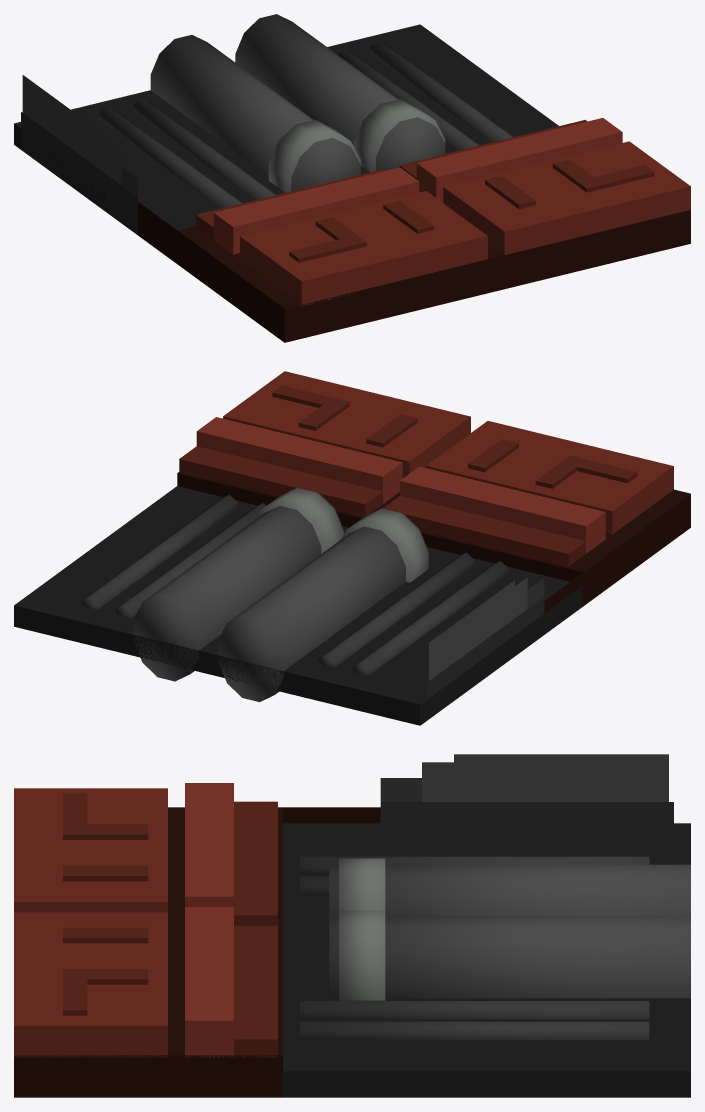
The model's file is newshf-234.glb.
The picture shows the model from 3 angles, top to bottom: view 1: azimuth 30°, elevation 25°; view 2: azimuth 150°, elevation 25°; view 3: azimuth 270°, elevation 25°; orthographic projection. The views are drawn at different scales.
Visible parts, largest first — view 1: newshf-234; view 2: newshf-234; view 3: newshf-234.
Boxes of the visible parts, <box> form: newshf-234: <box>14,14,690,342</box>; newshf-234: <box>14,371,690,725</box>; newshf-234: <box>14,754,690,1097</box>.
Size of the model in its own units: 2 by 0.4525 by 2.31.
